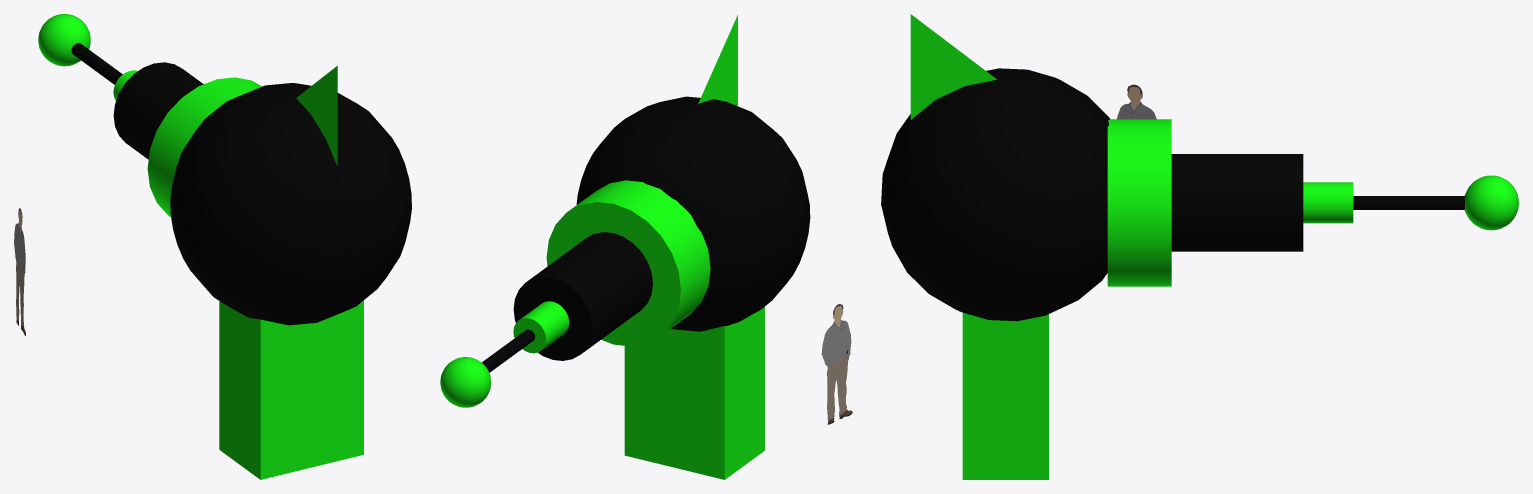
The model's file is LazerGun.dae.
3 renders of one model, left to right at view 1: azimuth 30°, elevation 25°; view 2: azimuth 150°, elevation 25°; view 3: azimuth 270°, elevation 25°, orthographic. The views are drawn at different scales.
Parts seen in each view (by area): view 1: SketchUp (×7), Derrick; view 2: SketchUp (×8), Derrick (×2); view 3: SketchUp (×8).
Part boxes in pixels (bbox=[...]): SketchUp (×7): bbox=[38, 14, 411, 479]; Derrick: bbox=[16, 260, 24, 326]; SketchUp (×8): bbox=[440, 15, 810, 479]; Derrick (×2): bbox=[821, 320, 851, 419]; SketchUp (×8): bbox=[881, 14, 1518, 479].
Size of the model in its own units: 192 by 317 by 241.
